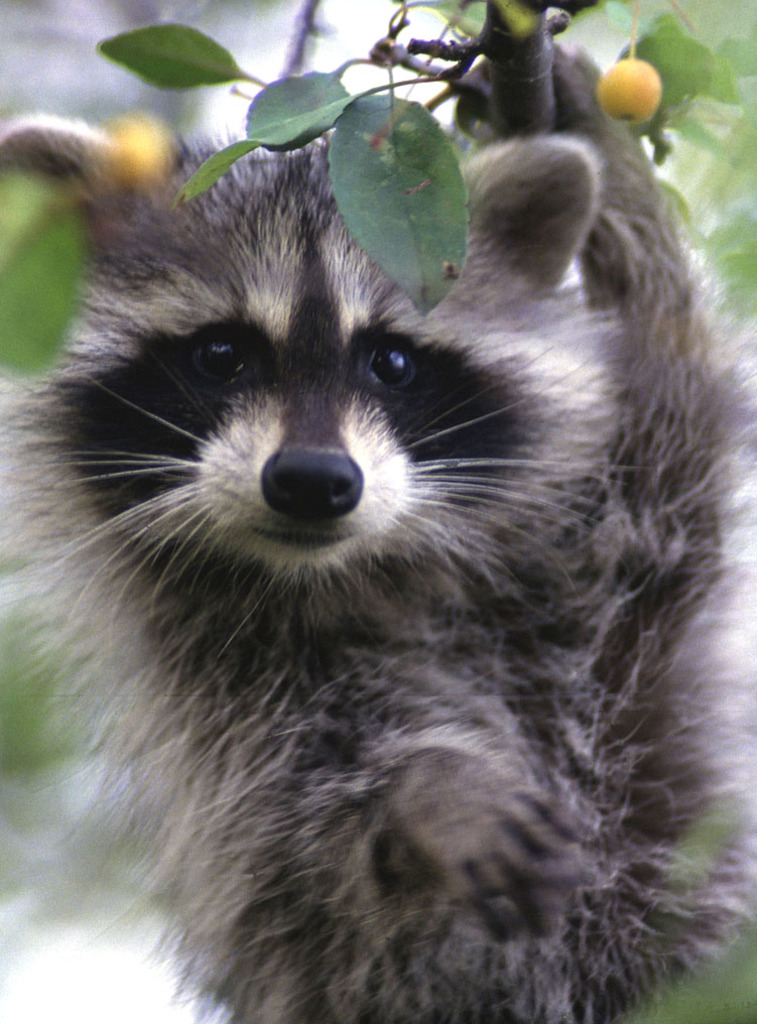raccoon: (1, 113, 757, 1024)
